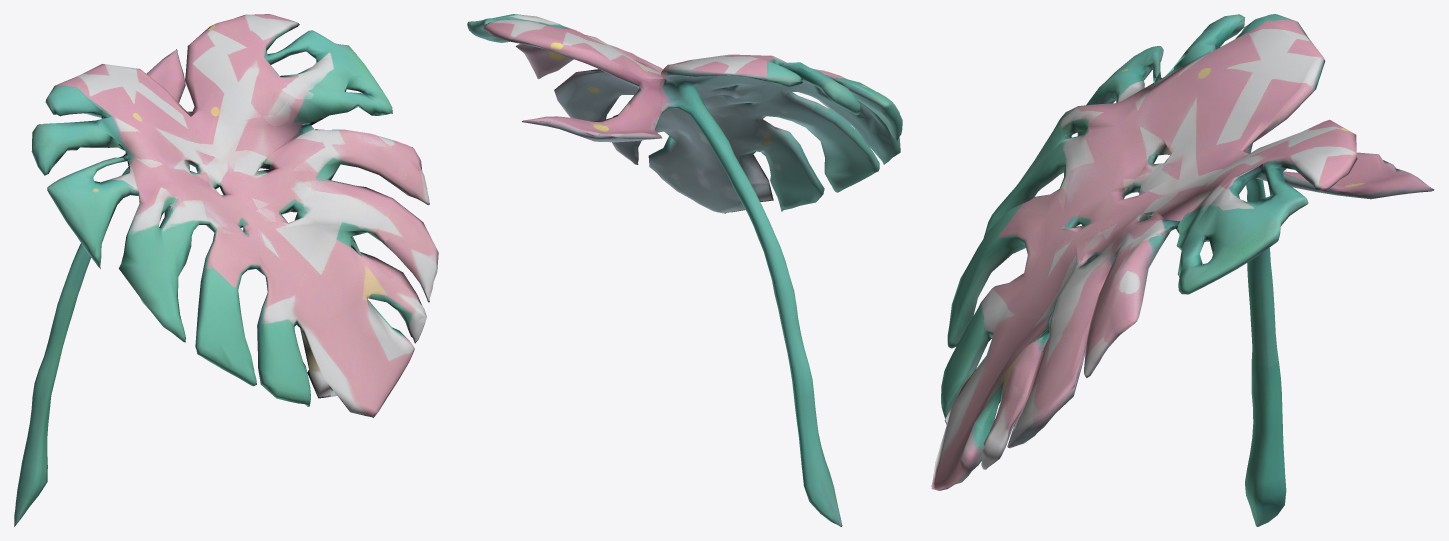
Rendered from mon_star_pinkmint.glb.
3 views of the same model, side by side, from view 1: azimuth 30°, elevation 25°; view 2: azimuth 150°, elevation 25°; view 3: azimuth 270°, elevation 25° (orthographic). The views are drawn at different scales.
Size of the model in its own units: 1.78 by 2 by 1.66.
Materials: 1 (1 with a texture image).
